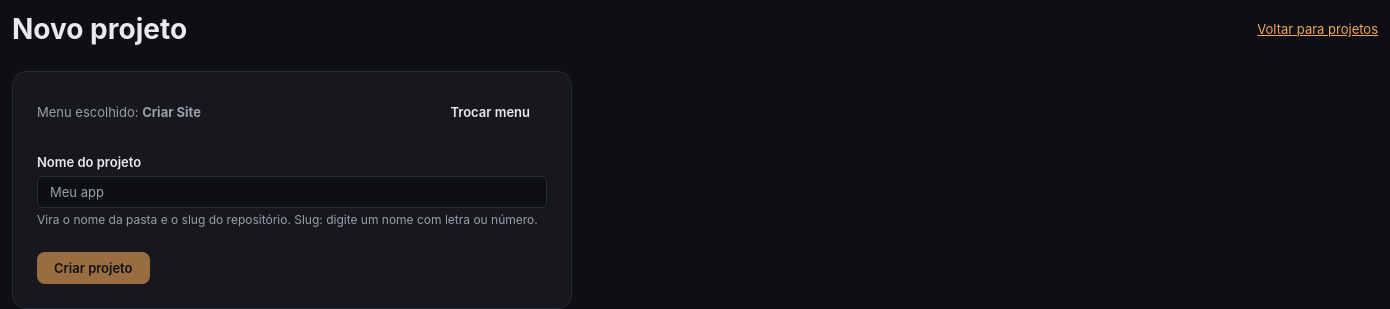
Test: PaginaNovoProjeto › erro do servidor no nome aparece junto do campo
This screenshot has width=1390, height=309.
(page scrolled)
Type "Café" into the field labelled "Nome do projeto" at [292, 192], box [37,176,547,208]
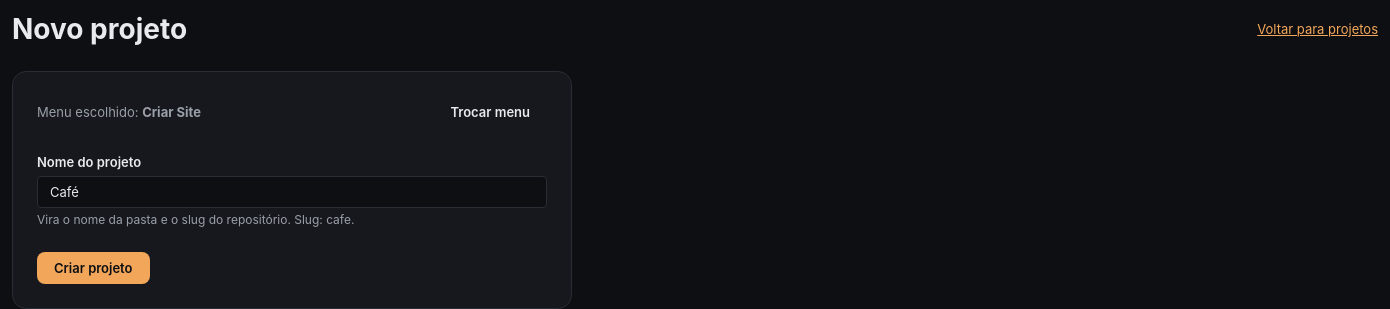
Click the button "Criar projeto" at [93, 268], box [37,252,150,284]
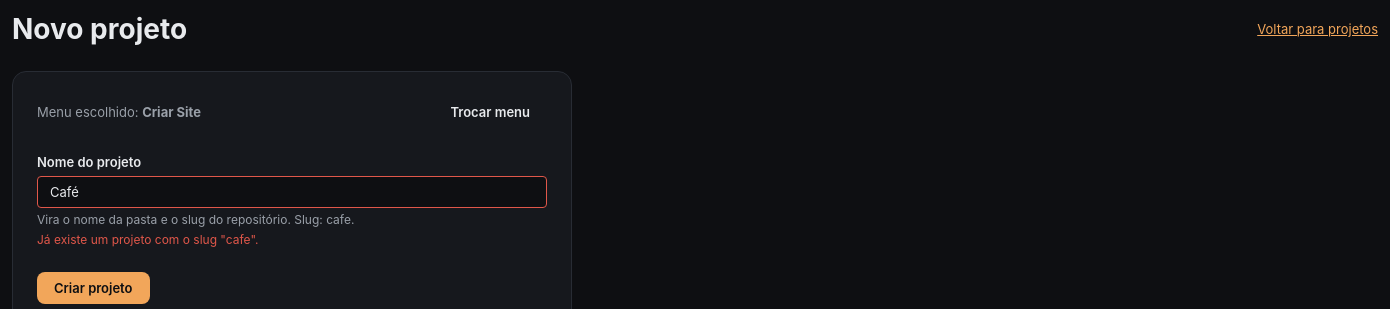
Expected: the message shows "slug \"cafe\"", [37,232,258,247]
